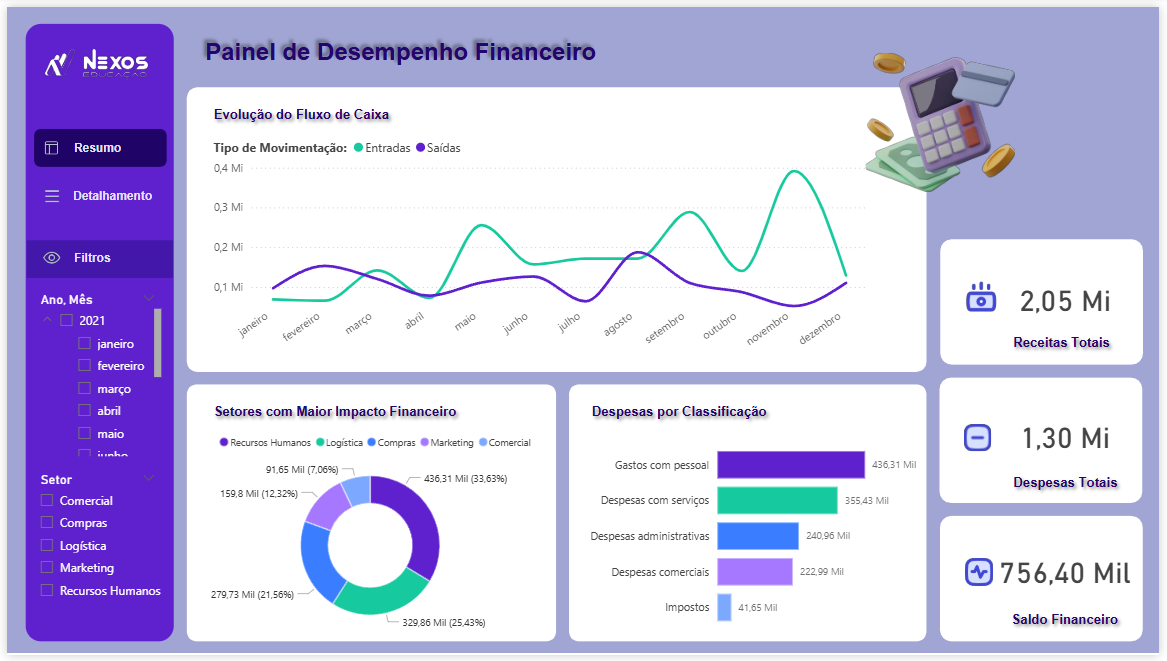

What the dashboard file says about the page in this screenshot:
{"tool":"powerbi","page":{"name":"Página 1","canvas":[1280,720],"ordinal":0},"visuals":[{"type":"card","fields":{"Values":["Sum(Movimentacoes.Saldo)"]},"box":[1096,600,160,51],"z":0},{"type":"lineChart","fields":{"Category":["Movimentacoes.Data.Variation.Hierarquia de datas.Ano","Movimentacoes.Data.Variation.Hierarquia de datas.Trimestre","Movimentacoes.Data.Variation.Hierarquia de datas.Mês","Movimentacoes.Data.Variation.Hierarquia de datas.Dia"],"Y":["Sum(Movimentacoes.Valor)"],"Series":["Movimentacoes.Tipo Movimentação"]},"box":[224,136,736,264],"z":1000},{"type":"slicer","fields":{"Values":["Setores.Setor"]},"box":[24,512,152,160],"z":2000},{"type":"card","fields":{"Values":["Sum(Movimentacoes.Valor)"]},"box":[1096,448,160,56],"z":3000},{"type":"card","fields":{"Values":["Sum(Movimentacoes.Valor)"]},"box":[1096,296,160,56],"z":4000},{"type":"slicer","fields":{"Values":["Movimentacoes.Data.Variation.Hierarquia de datas.Ano","Movimentacoes.Data.Variation.Hierarquia de datas.Mês"]},"box":[24,312,152,192],"z":5000},{"type":"donutChart","fields":{"Y":["Sum(Movimentacoes.Valor)"],"Category":["Setores.Setor"]},"box":[216,464,376,240],"z":6000},{"type":"clusteredBarChart","fields":{"Category":["Movimentacoes.Classificação"],"Y":["Sum(Movimentacoes.Valor)"]},"box":[632,464,384,240],"z":7000}]}

Visuals, with their boxes in screenshot pixels (x1, y1, x2, y2), scaled from the page's 1280x720 canvas onto the 1167x661 screenshot:
card - Sum(Movimentacoes.Saldo): [left=999, top=551, right=1145, bottom=598]
lineChart - Movimentacoes.Data.Variation.Hierarquia de datas.Ano x Movimentacoes.Data.Variation.Hierarquia de datas.Trimestre: [left=204, top=125, right=875, bottom=367]
slicer - Setores.Setor: [left=22, top=470, right=160, bottom=617]
card - Sum(Movimentacoes.Valor): [left=999, top=411, right=1145, bottom=463]
card - Sum(Movimentacoes.Valor): [left=999, top=272, right=1145, bottom=323]
slicer - Movimentacoes.Data.Variation.Hierarquia de datas.Ano x Movimentacoes.Data.Variation.Hierarquia de datas.Mês: [left=22, top=286, right=160, bottom=463]
donutChart - Sum(Movimentacoes.Valor) x Setores.Setor: [left=197, top=426, right=540, bottom=646]
clusteredBarChart - Movimentacoes.Classificação x Sum(Movimentacoes.Valor): [left=576, top=426, right=926, bottom=646]
